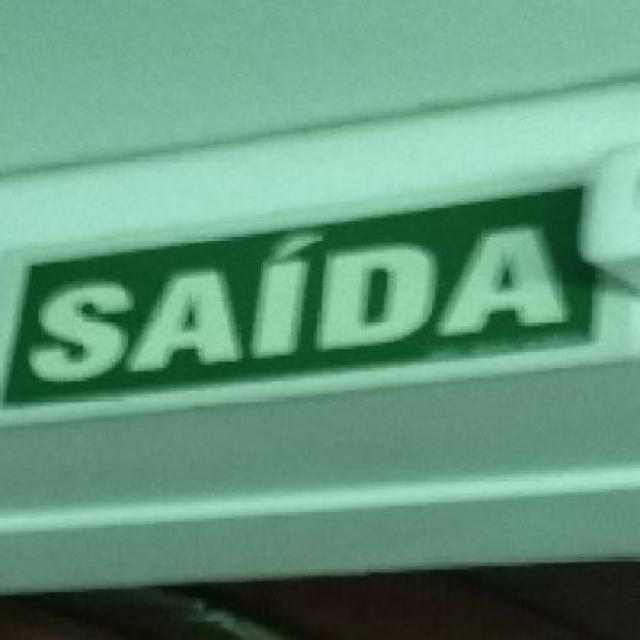emergency_exit: (1, 177, 609, 424)
